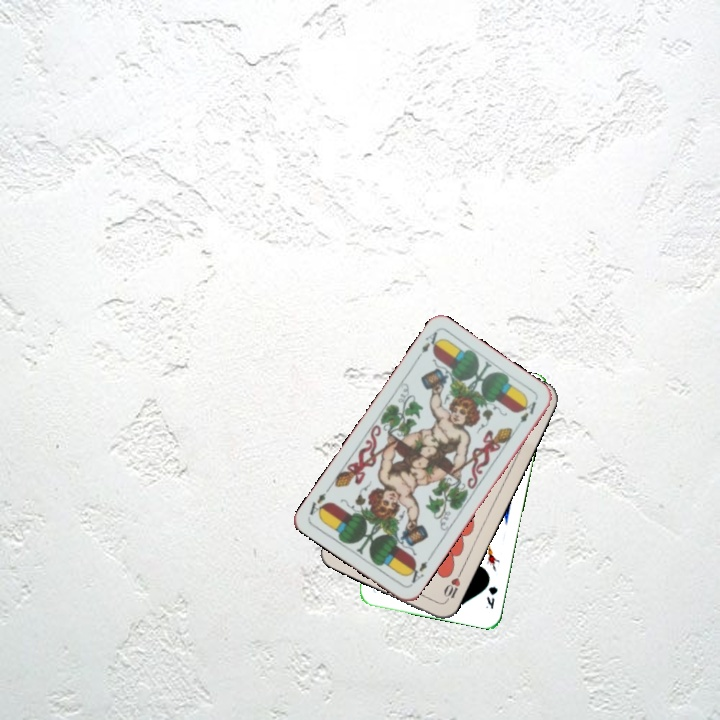EA: (403, 552, 434, 588), (412, 328, 443, 363)
GK: (482, 581, 500, 612)
H10: (439, 567, 465, 605)
